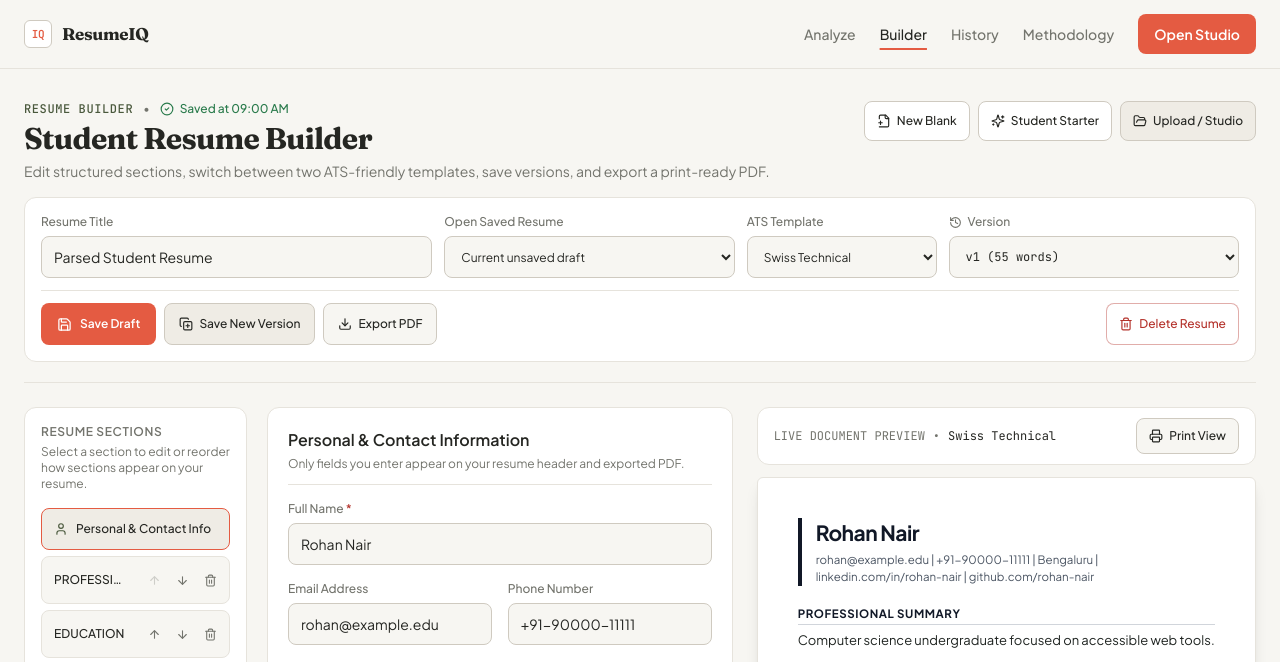
Test: Phase 6 Student Resume Builder › requires confirmation before deleting a resume and shows friendly recovery copy on save failure
Expected: the field labelled "Full Name *" holds "Rohan Nair", [288,523,712,565]
Click the button "Save Draft" at [99, 324], box [41,303,156,345]
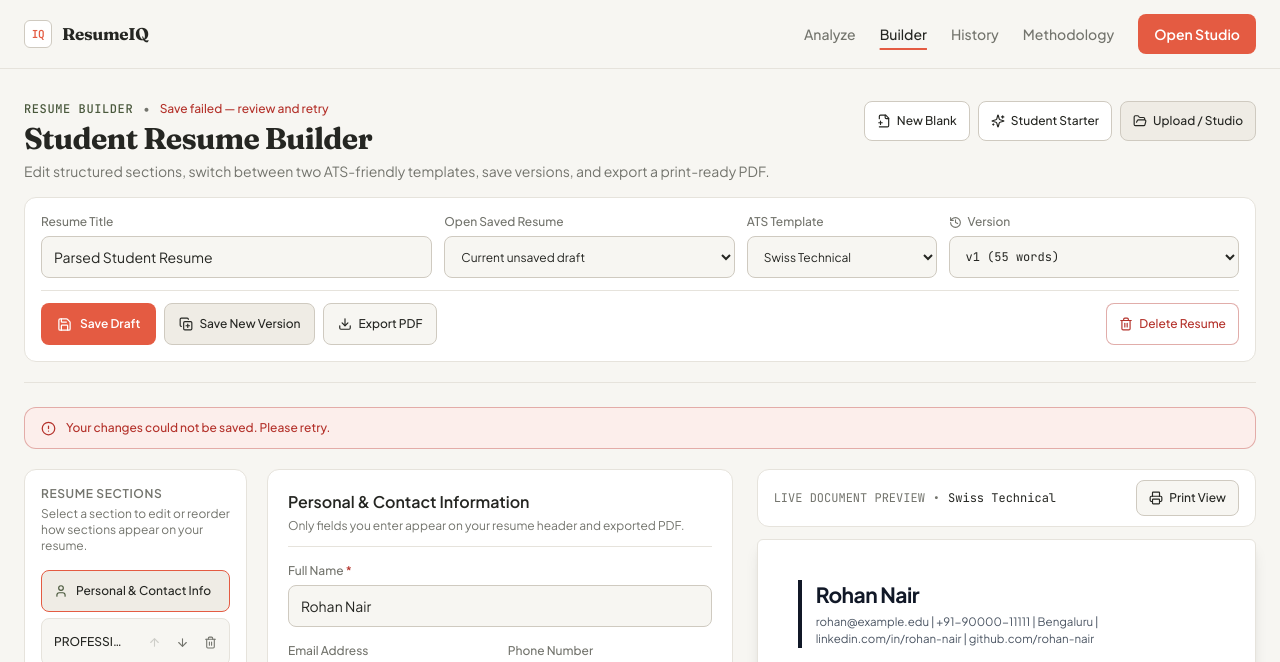
Result: the text "Your changes could not be saved. Please retry." is shown at [66,420,330,436]
// Delete requires confirmation
Click the button "Delete Resume" at [1173, 324], box [1106,303,1239,345]
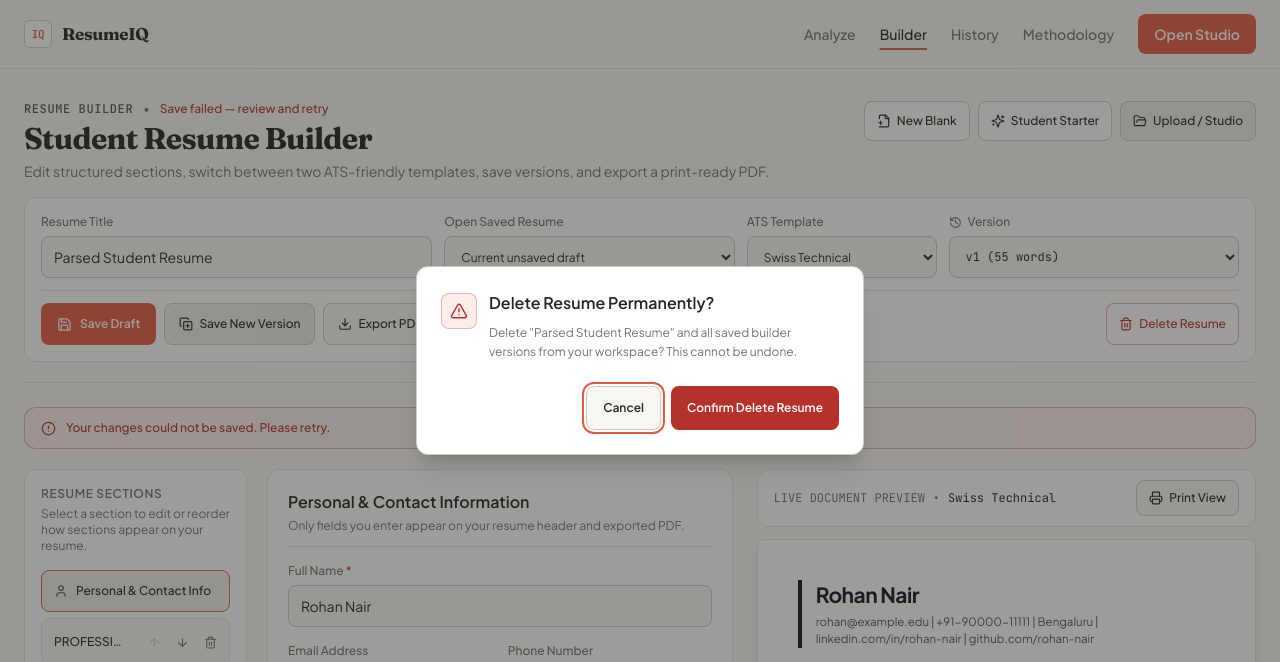
Result: the dialog shows "Delete Resume Permanently" at [489,292,714,312]
Click the button "Cancel" at [624, 408], box [586,386,661,430]
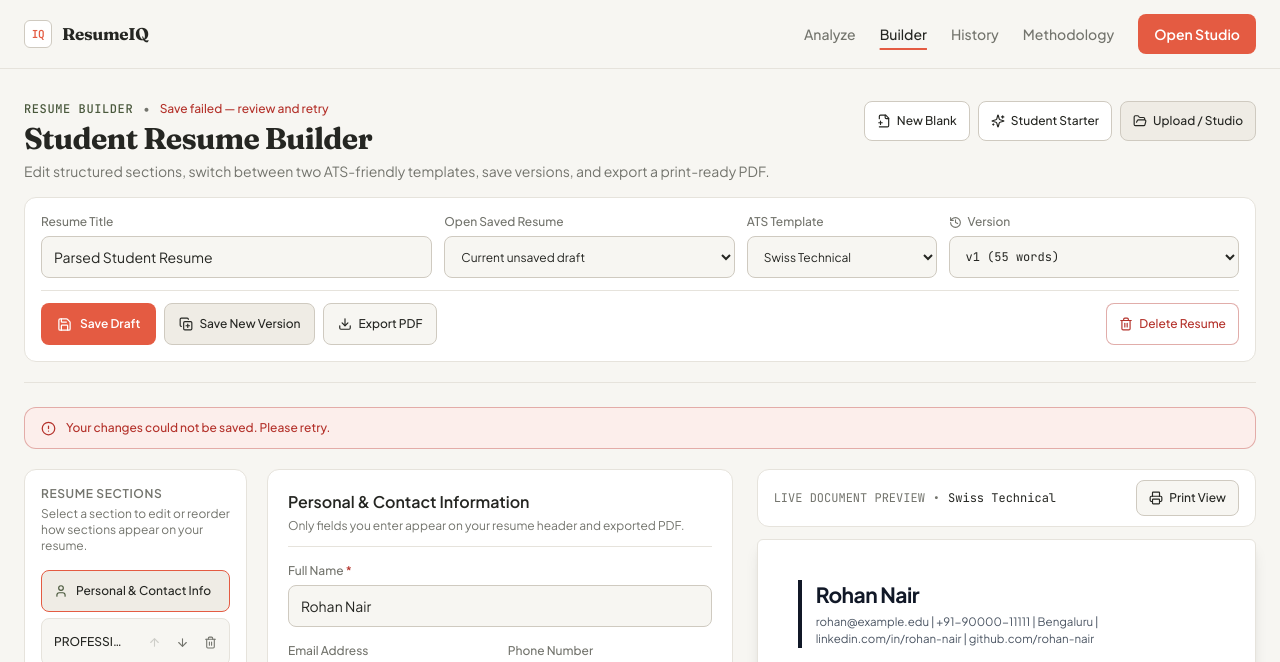
Click the button "Delete Resume" at [1173, 324], box [1106,303,1239,345]
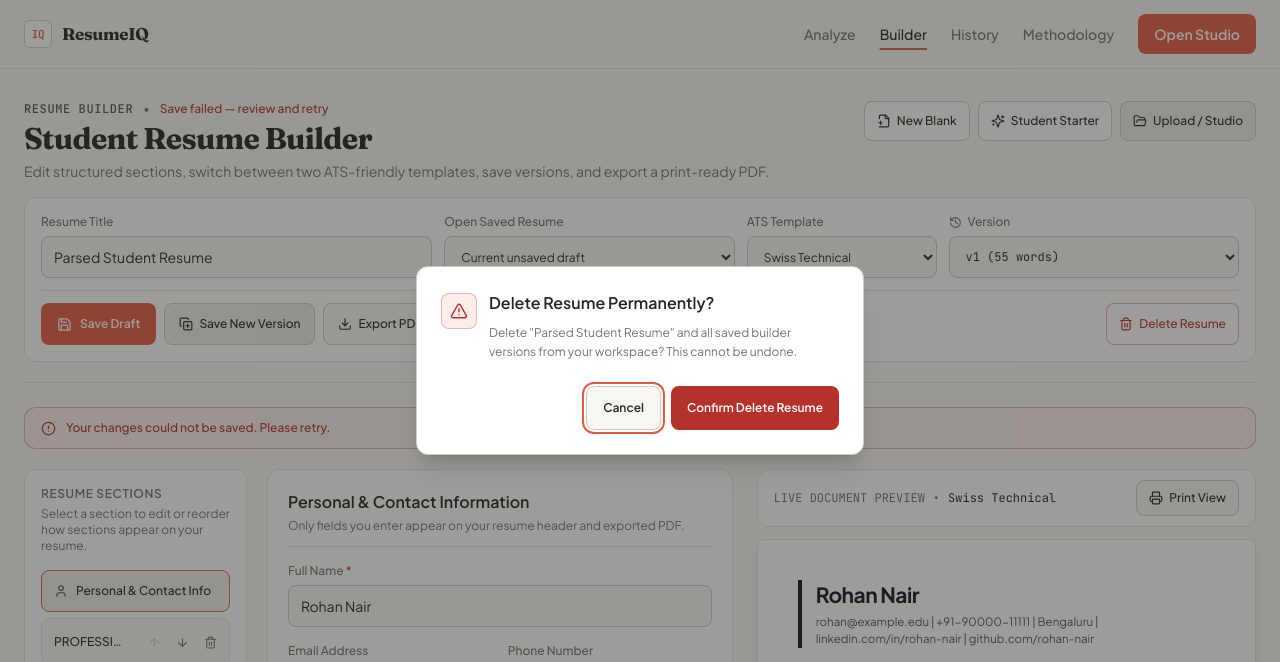
Click the button "Confirm Delete Resume" at [755, 408], box [671,386,839,430]
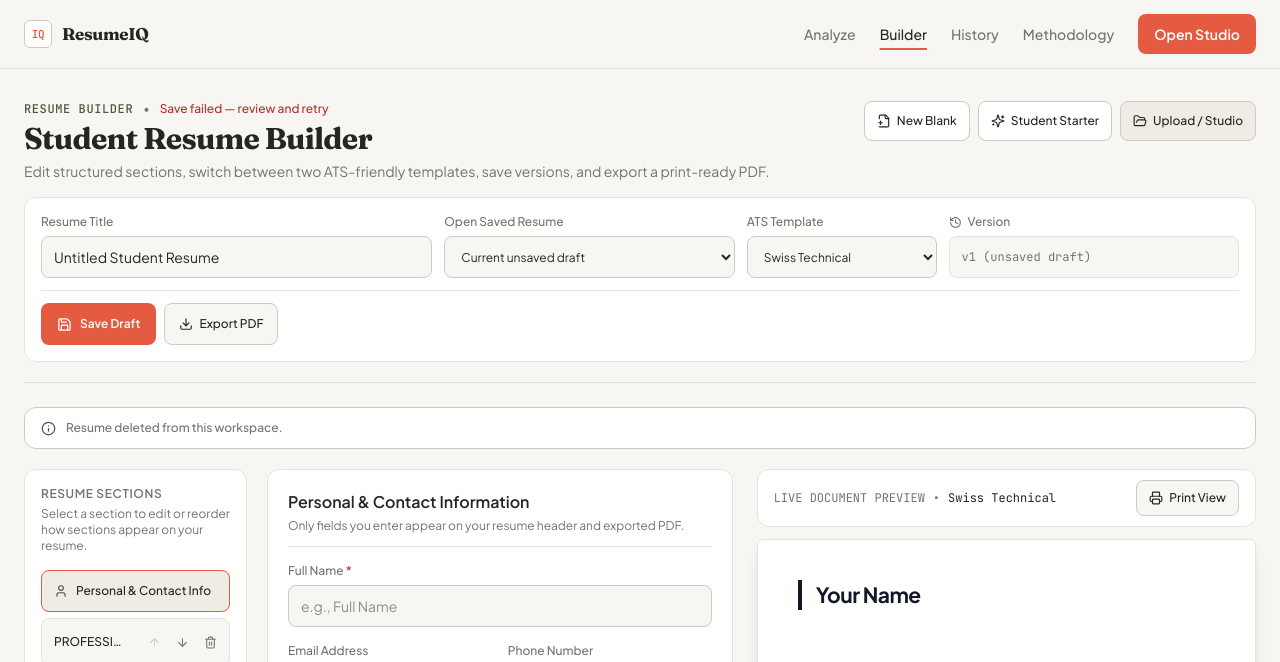
Result: the text "Resume deleted from this workspace." is shown at [66,420,282,436]
